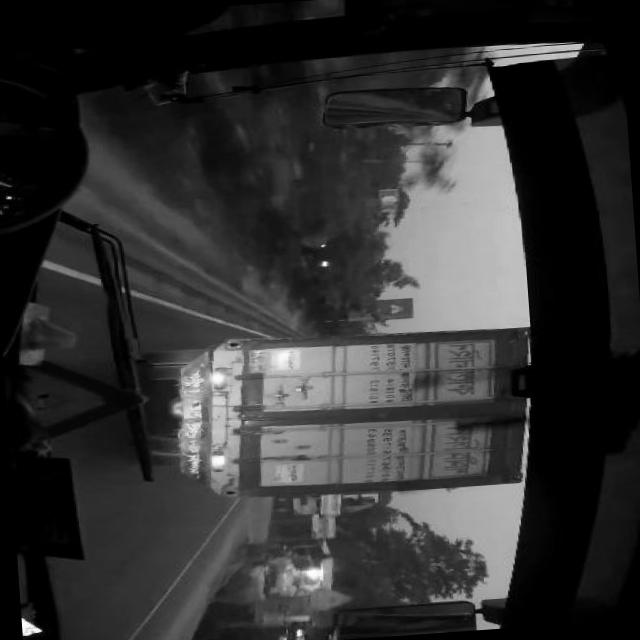truck: (142, 325, 528, 511)
